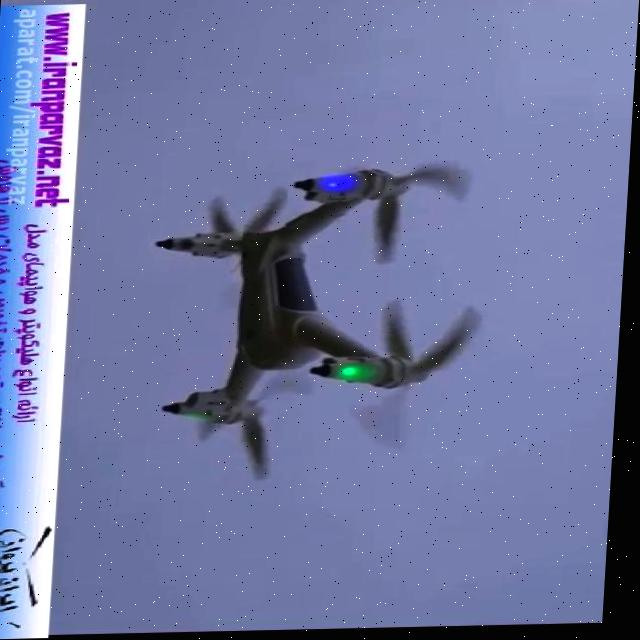drone: (143, 151, 511, 491)
